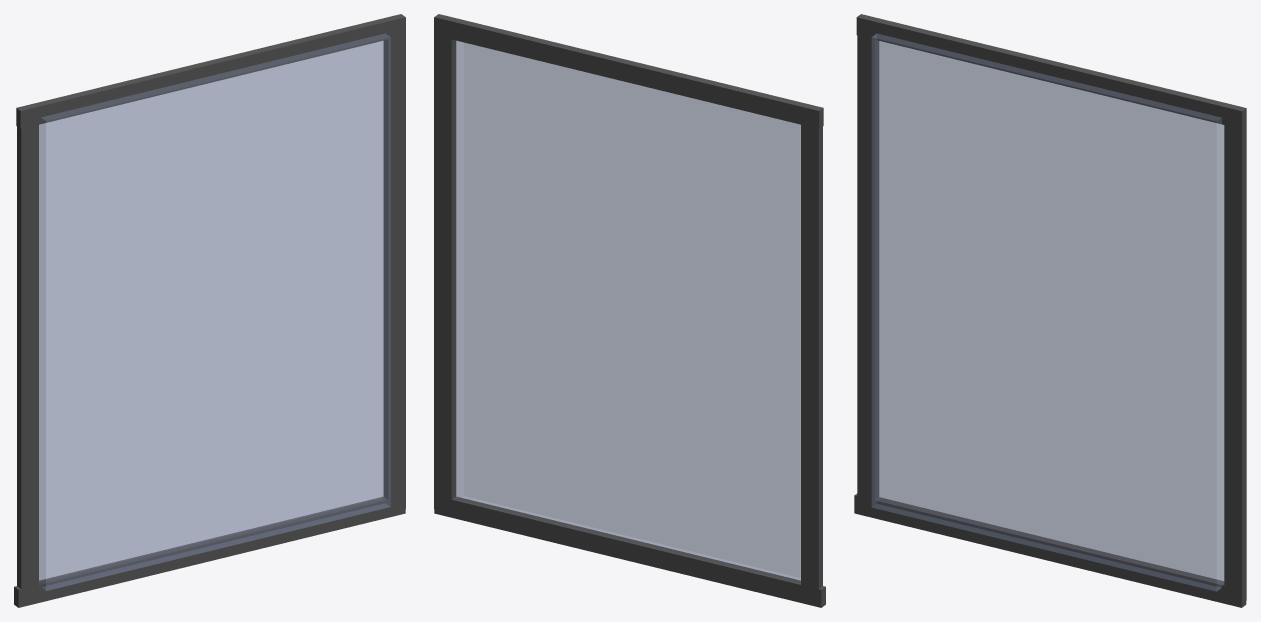
Rendered from Window.fbx.
3 renders of one model, left to right at view 1: azimuth 30°, elevation 25°; view 2: azimuth 150°, elevation 25°; view 3: azimuth 330°, elevation 25°, orthographic.
Visible parts, largest first — view 1: pCube11, pCube8, pCube7, pCube9, pCube10; view 2: pCube11, pCube8, pCube7, pCube10, pCube9; view 3: pCube11, pCube8, pCube7, pCube9, pCube10.
Part boxes in pixels (x1,y1,x2,y2): pCube11: (39, 33, 390, 590); pCube8: (384, 14, 405, 513); pCube7: (17, 107, 38, 600); pCube9: (16, 14, 403, 128); pCube10: (14, 495, 405, 607); pCube11: (456, 40, 800, 582); pCube8: (434, 14, 455, 513); pCube7: (801, 107, 822, 599); pCube10: (434, 496, 825, 607); pCube9: (436, 14, 823, 128); pCube11: (871, 33, 1224, 591); pCube8: (1224, 107, 1246, 603); pCube7: (857, 17, 878, 514); pCube9: (856, 14, 1243, 127); pCube10: (854, 493, 1246, 607).
Bounding box in the file's own units: 3.72 × 4.56 × 0.1608.
